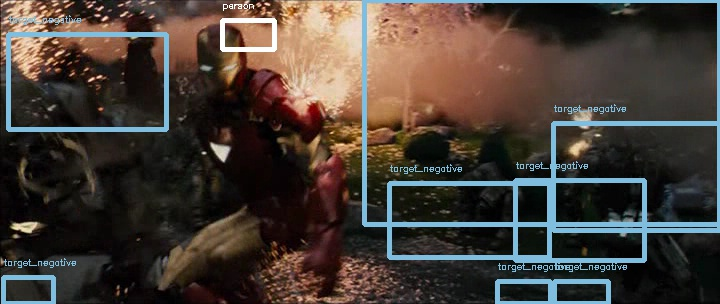person: (194, 28, 244, 96), (193, 28, 243, 96), (195, 28, 245, 96), (194, 27, 244, 95), (194, 29, 244, 97)
target_negative: (229, 127, 578, 274), (408, 192, 714, 235), (545, 219, 671, 274), (435, 103, 548, 155), (706, 223, 718, 298), (432, 257, 480, 270)
